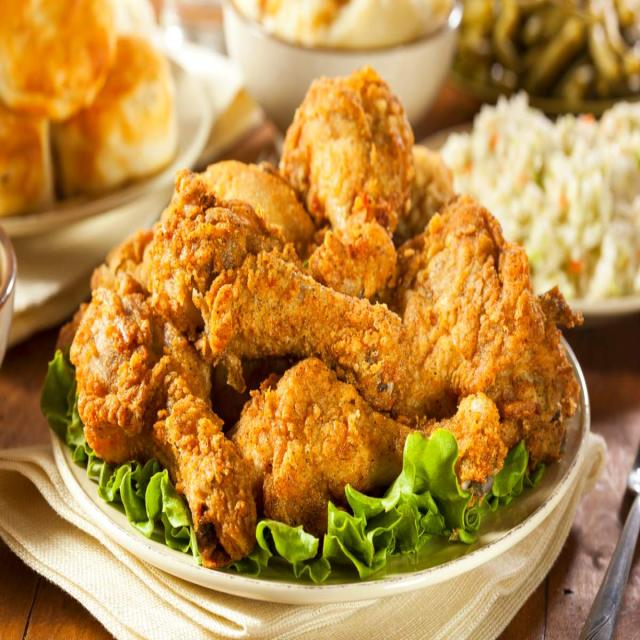pollo: (62, 63, 586, 560)
